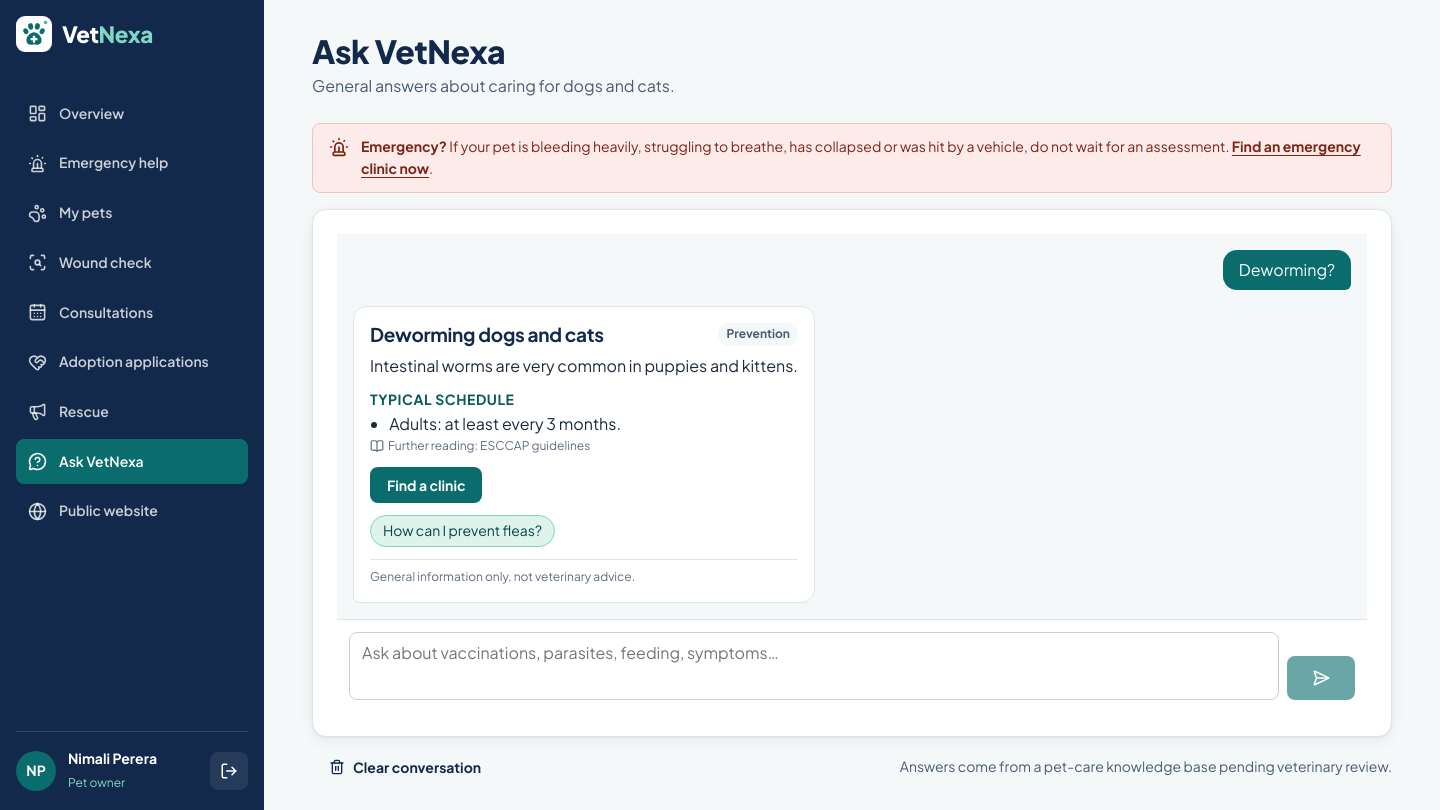
pet-care assistant › loads a signed-in user’s saved conversation and can clear it
Expected: the text "Deworming?" is shown, [1223,250,1351,290]
Expected: the heading "Deworming dogs and cats" is shown, [370,323,604,346]
Click the button "Clear conversation": (405, 767) [312,749,498,785]
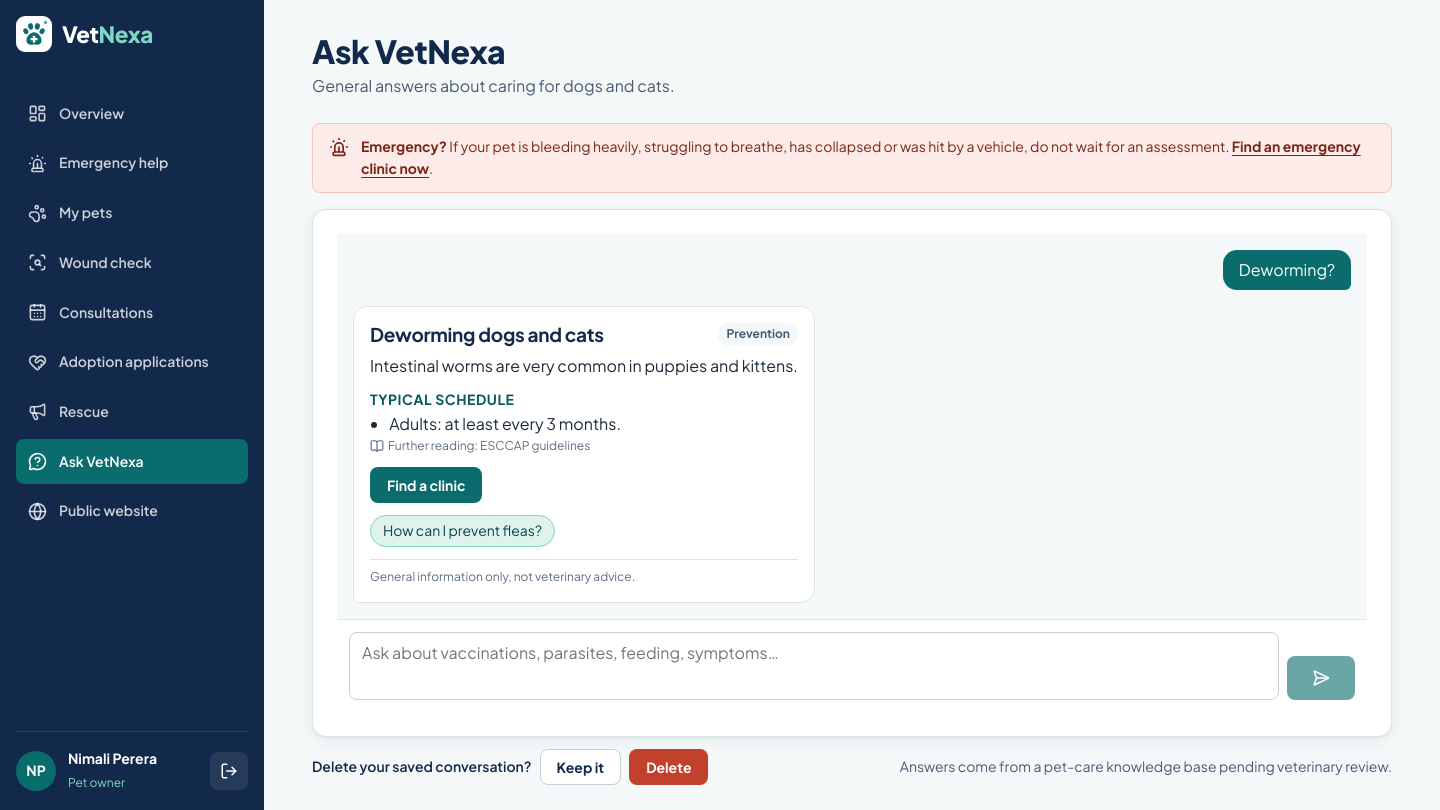
Click the button "Delete": (669, 767) [629,749,708,785]
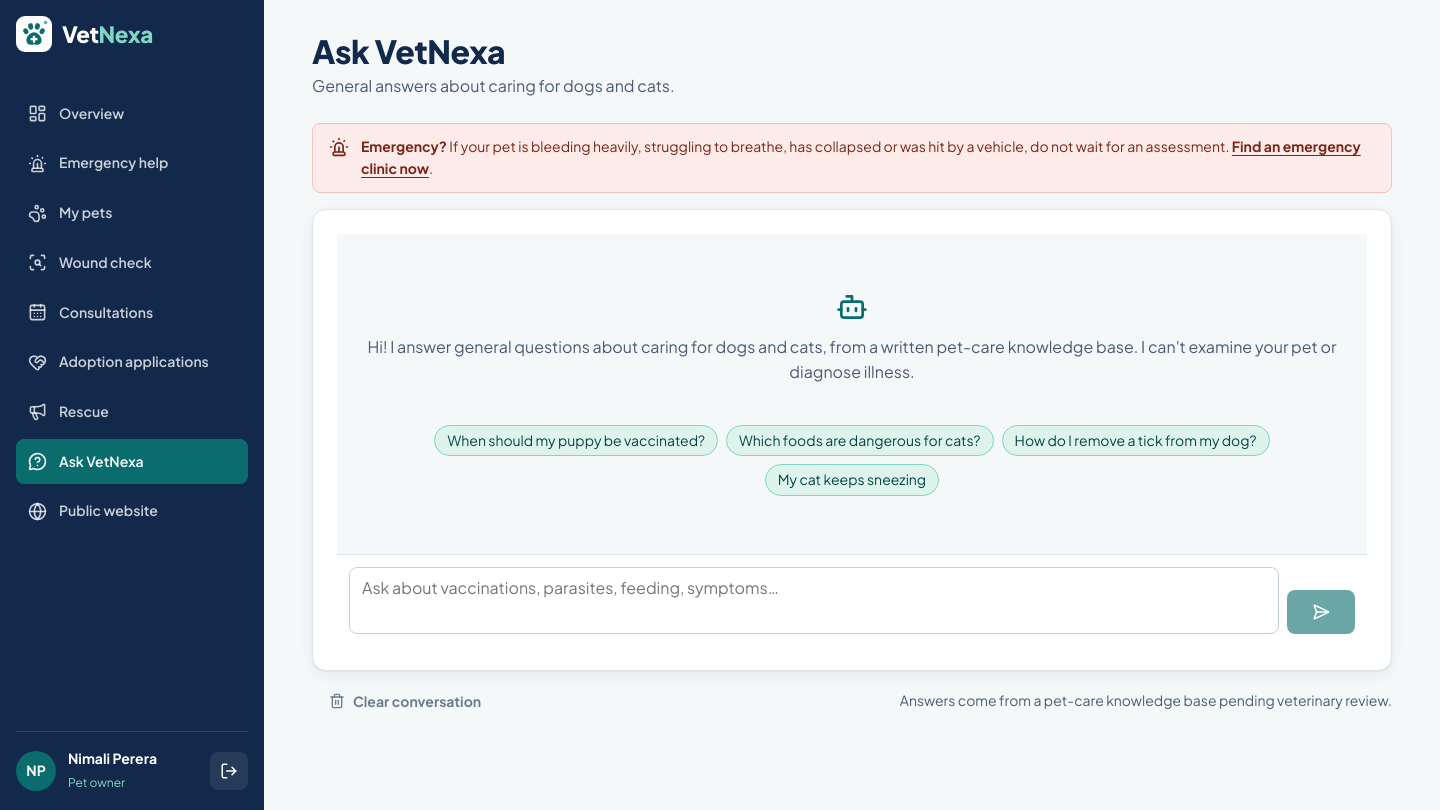
Now the text "I answer general questions" is shown, box [368,336,1336,382]
